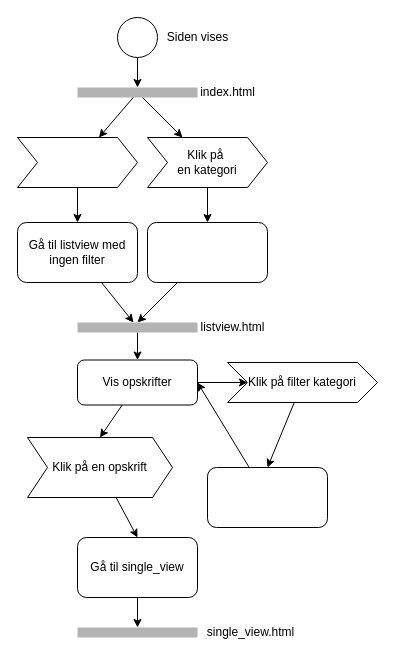
Image size: 395x665. Some labels were removed from this diagram. The shapes that lost their labels are listed below. From the top down, each one's box as (x1, y1, x2, y2) in pixels, then its label:
(16, 136, 138, 188): Klik på "go to recipes"
(146, 222, 268, 282): Gå til listview med cuisine filter
(206, 466, 328, 528): Opdater opskrifter efter filter
